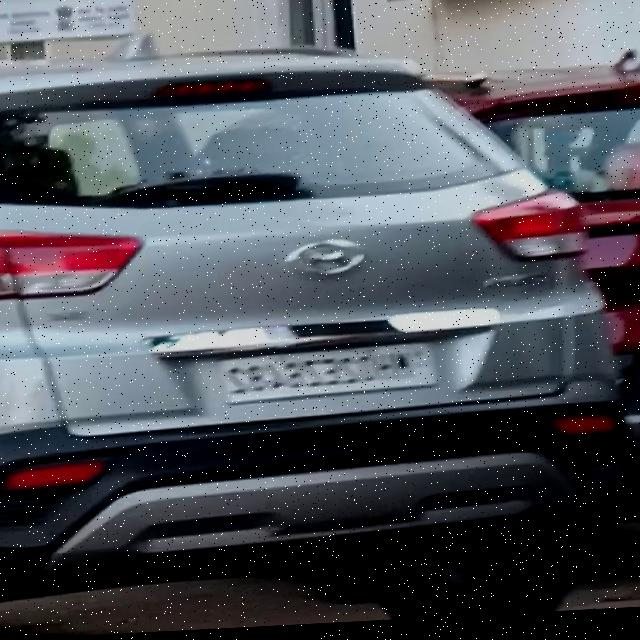plate: (220, 348, 439, 409)
